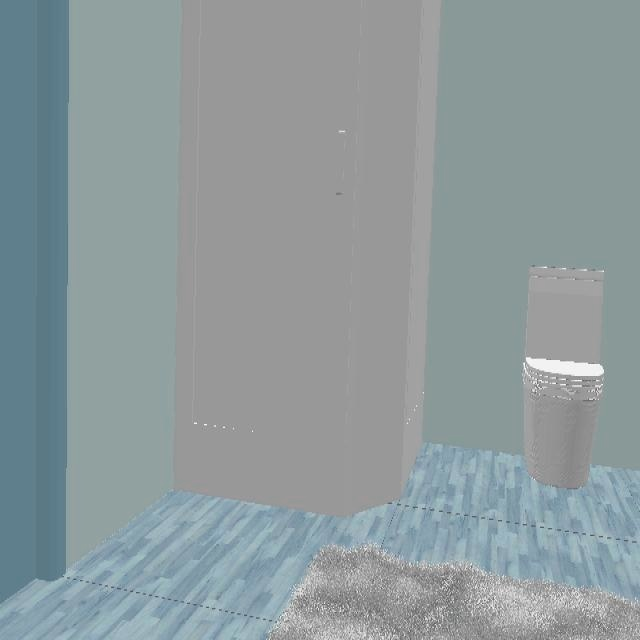shower: (173, 0, 444, 518)
toilet: (524, 266, 607, 488)
